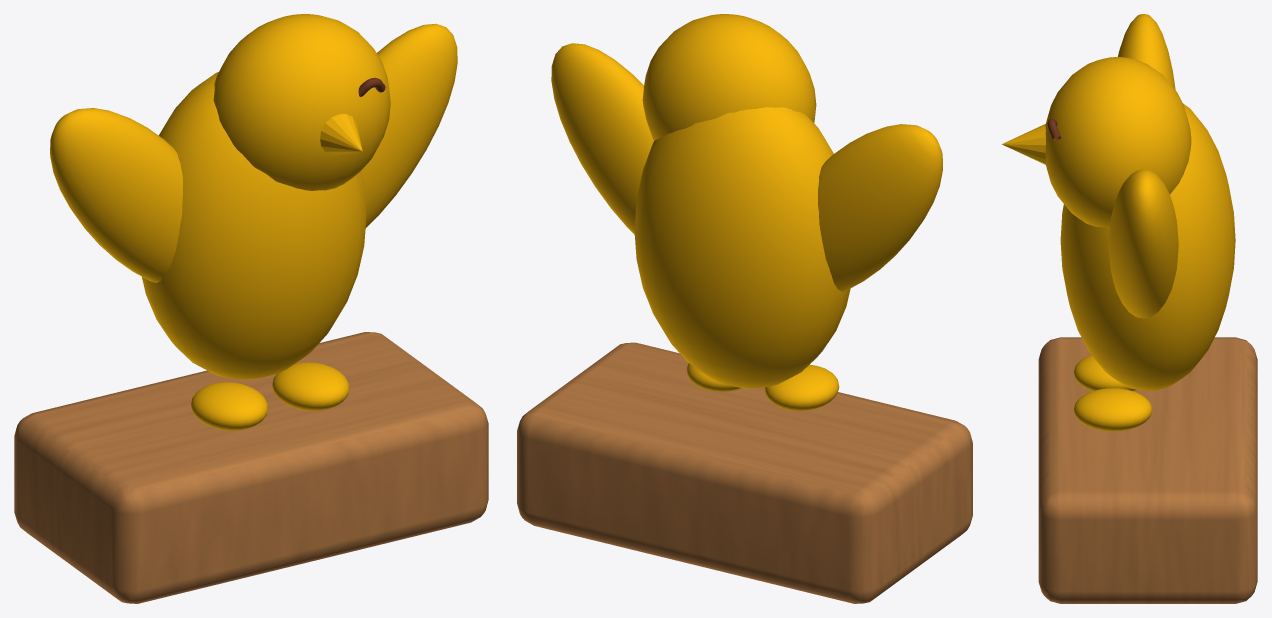
The model's file is display-early-bird.glb.
3 renders of one model, left to right at view 1: azimuth 30°, elevation 25°; view 2: azimuth 150°, elevation 25°; view 3: azimuth 270°, elevation 25°, orthographic. The views are drawn at different scales.
Parts seen in each view (by area): view 1: Wooden award plinth.009, Bird body, Bird head, Bird wing, Bird wing.001, Bird foot, Bird foot.001, Bird beak; view 2: Wooden award plinth.009, Bird body, Bird head, Bird wing, Bird wing.001, Bird foot, Bird foot.001; view 3: Wooden award plinth.009, Bird body, Bird head, Bird wing.001, Bird foot.001, Bird wing, Bird foot, Bird beak.
Part boxes in pixels (x1,y1,x2,y2): Wooden award plinth.009: (14, 332, 488, 603); Bird body: (142, 72, 366, 379); Bird head: (213, 14, 390, 190); Bird wing: (50, 108, 182, 282); Bird wing.001: (361, 23, 457, 227); Bird foot: (191, 382, 268, 430); Bird foot.001: (272, 362, 349, 410); Bird beak: (320, 114, 362, 154); Wooden award plinth.009: (517, 342, 972, 603); Bird body: (634, 107, 850, 388); Bird head: (642, 14, 816, 140); Bird wing: (818, 124, 942, 291); Bird wing.001: (551, 43, 653, 234); Bird foot: (765, 364, 839, 411); Bird foot.001: (686, 363, 741, 391); Wooden award plinth.009: (1038, 337, 1257, 603); Bird body: (1060, 103, 1235, 390); Bird head: (1045, 57, 1191, 227); Bird wing.001: (1108, 169, 1178, 318); Bird foot.001: (1073, 388, 1152, 431); Bird wing: (1118, 14, 1175, 89); Bird foot: (1073, 355, 1136, 391); Bird beak: (1002, 123, 1045, 164).
Size of the model in its own units: 0.4966 by 0.6 by 0.2925.
Materials: 3 (2 with a texture image).
